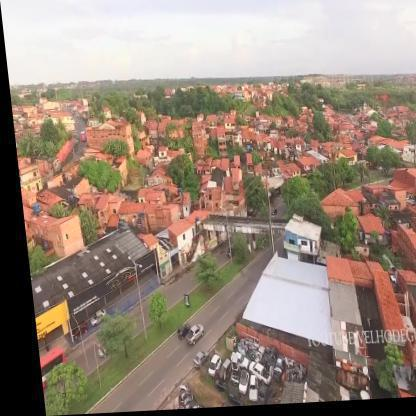lixo: (198, 342, 286, 404)
